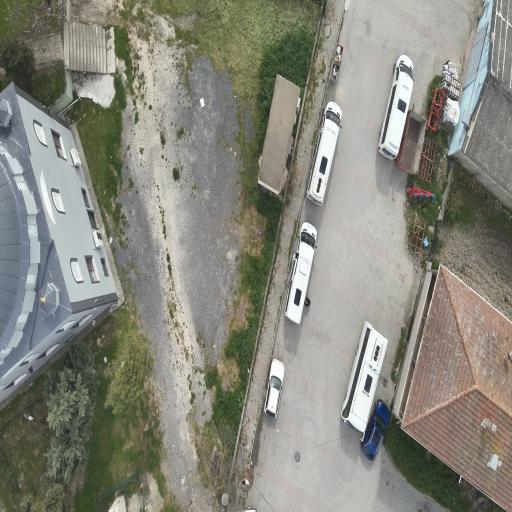car: (341, 321, 388, 432), (377, 55, 413, 159), (306, 101, 342, 205), (284, 222, 316, 323), (361, 400, 389, 460), (264, 359, 283, 417)
person: (304, 297, 309, 306)
